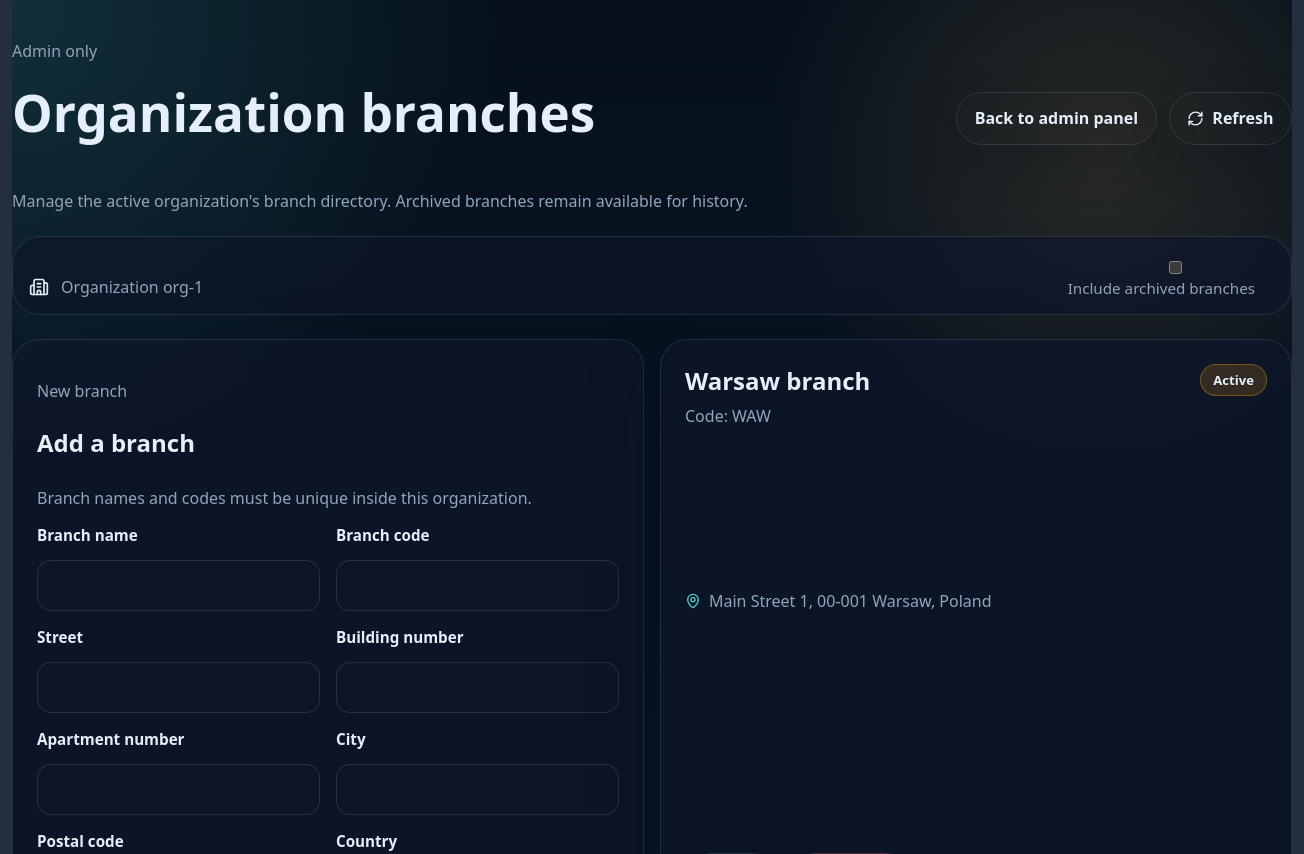
OrganizationBranches page › reloads archived branches when the filter is enabled
Expected: the heading "Warsaw branch" is shown, [685, 364, 870, 397]
Click the checkbox labelled "Include archived branches" at (1175, 268), box [1072, 261, 1279, 274]
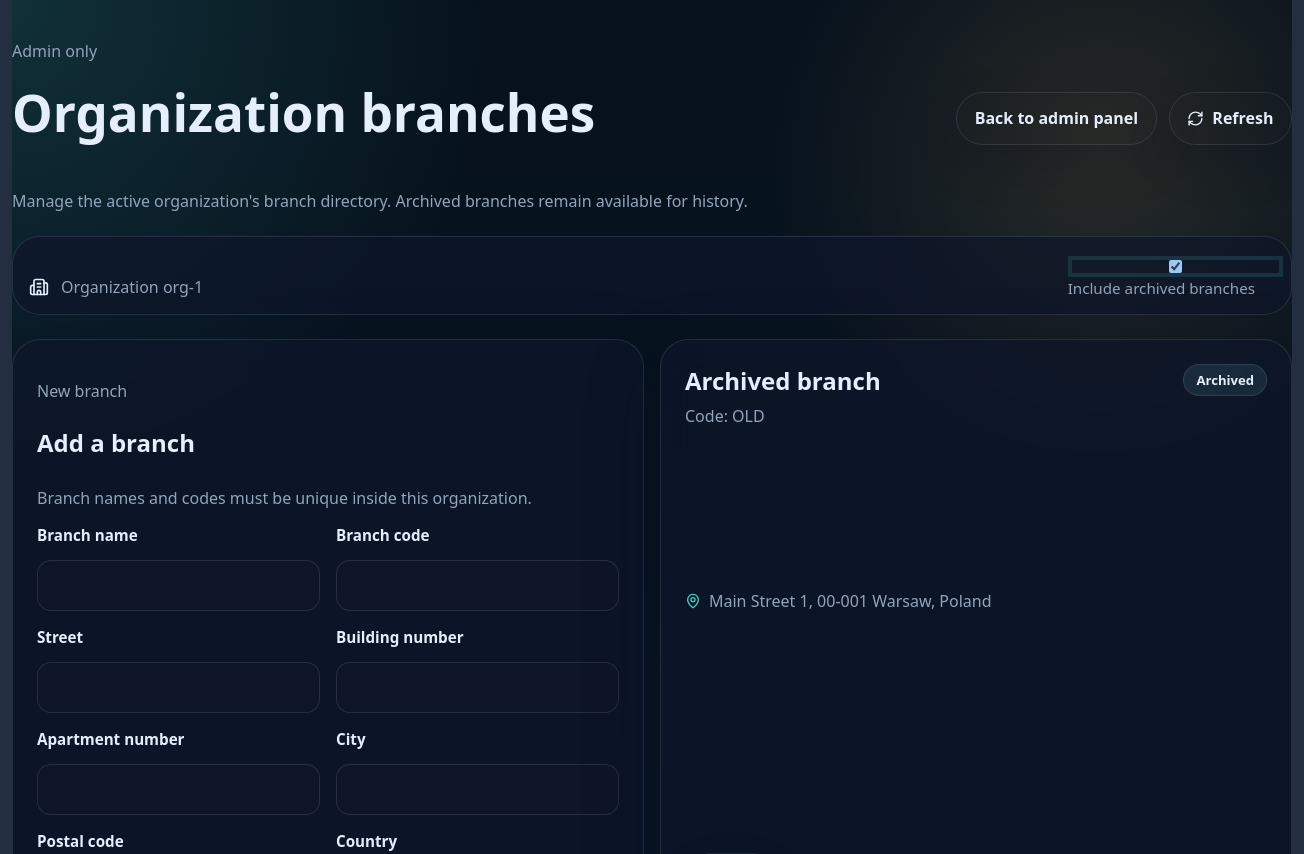
Result: the heading "Archived branch" is shown at [685, 364, 881, 397]
